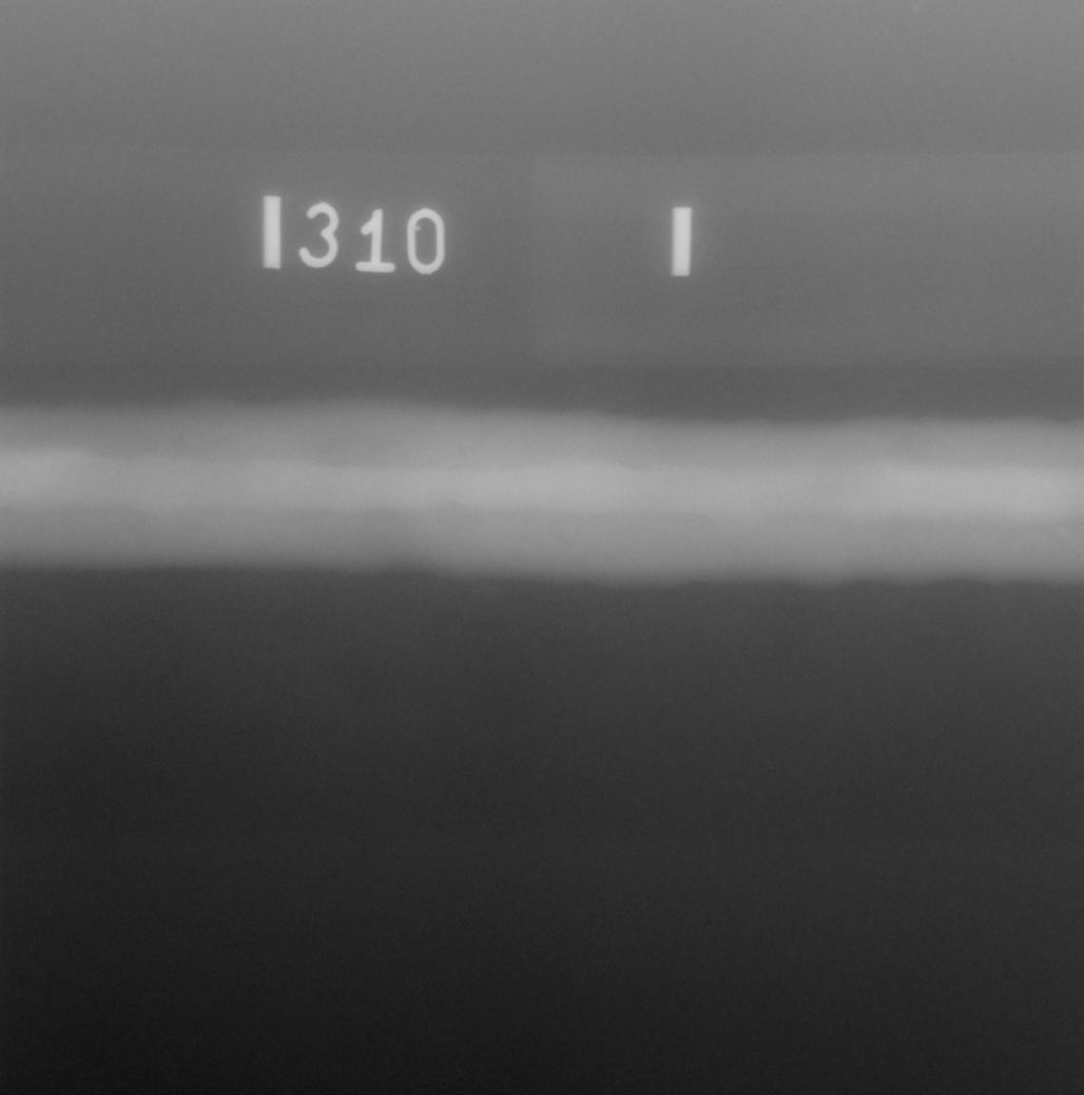Inclusion: (623, 462, 645, 470)
